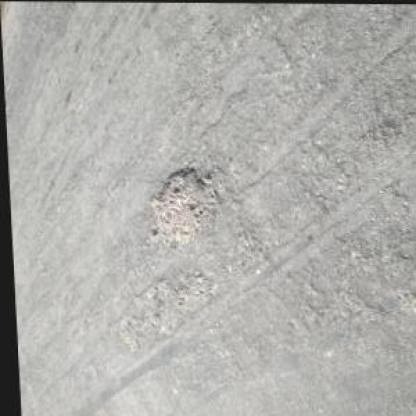pothole: (115, 268, 214, 353), (142, 164, 220, 252)
